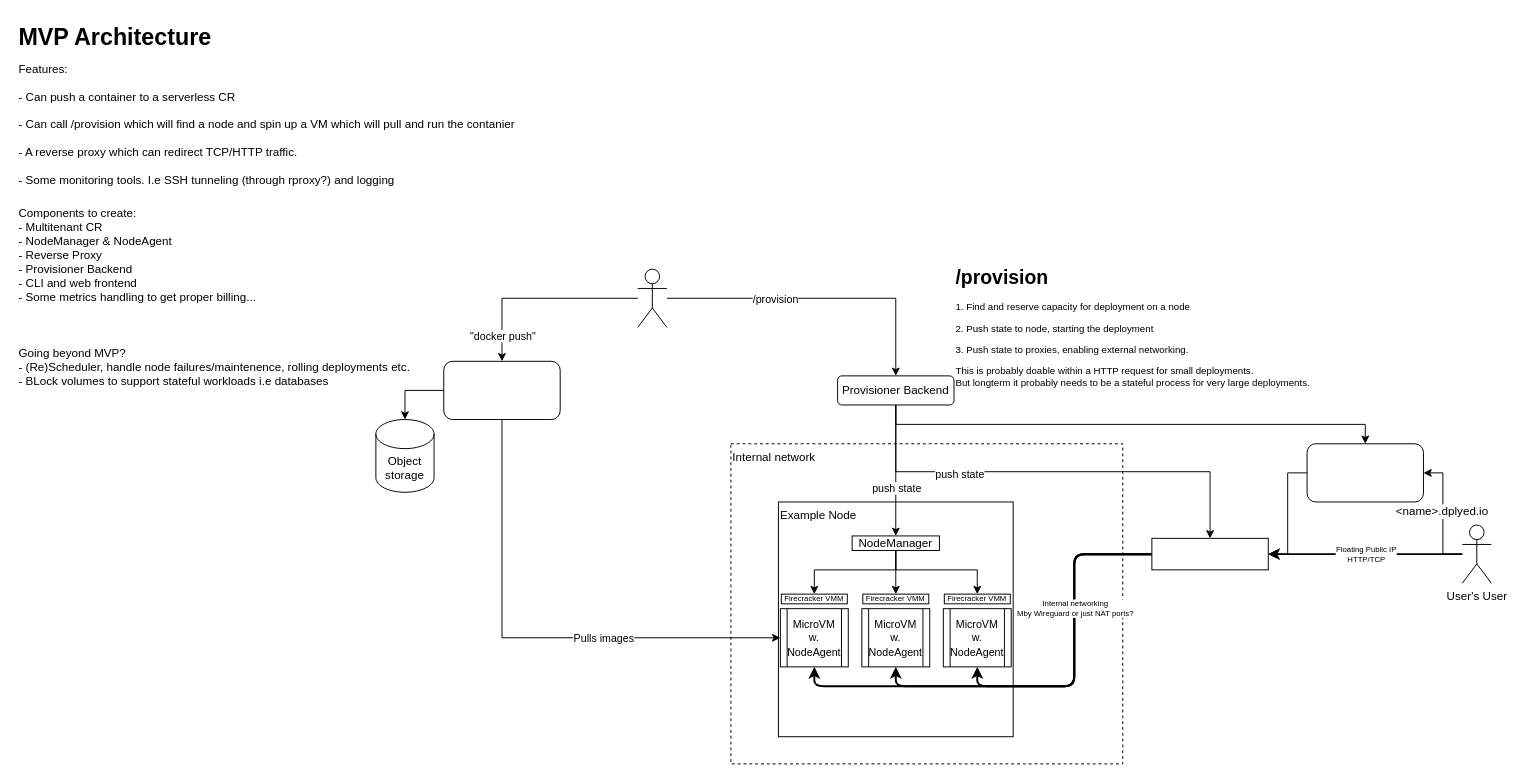
The diagram is 1523 pixels wide and 781 high, and some of its shapes have lost their labels. Here are the shapes that lost their labels. From the top down, the centre of each, then its label:
the point at 652,297: User
the point at 501,390: Multitenant serverless ContainerRegistry (quite simple...)
the point at 1364,472: DNS Authority (Provides some LB)
the point at 1209,553: EDGE Proxy (L7 HTTP & L4 TCP)
